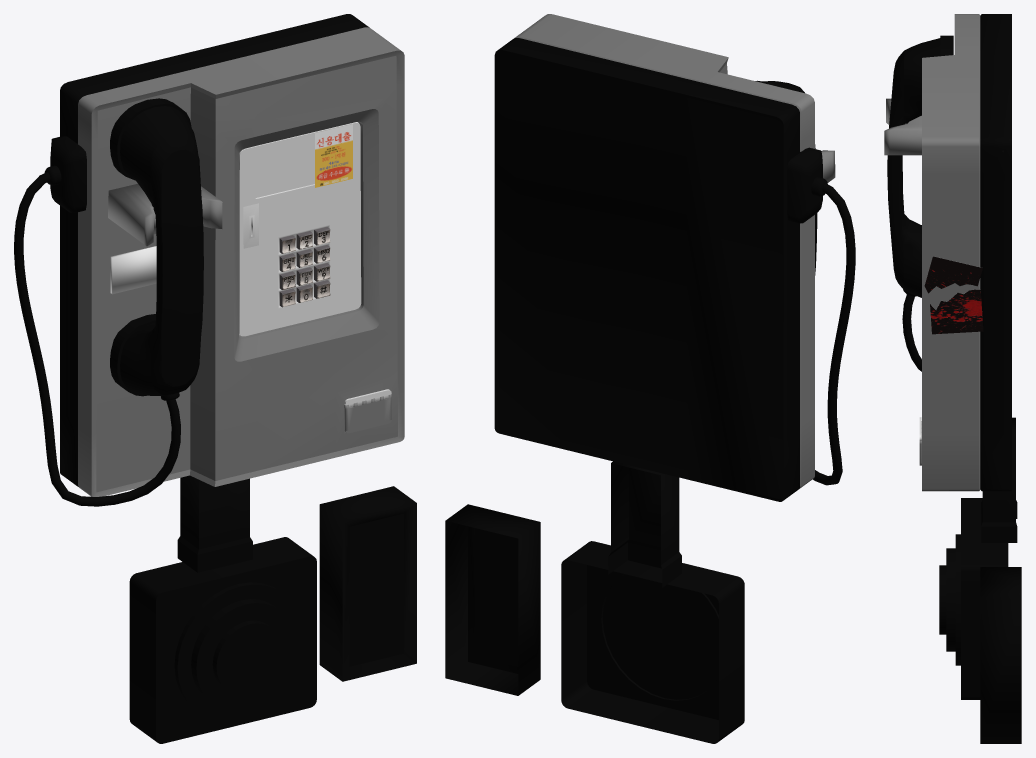
Rendered from phone.fbx.
The picture shows the model from 3 angles, left to right: view 1: azimuth 30°, elevation 25°; view 2: azimuth 150°, elevation 25°; view 3: azimuth 270°, elevation 25°; orthographic projection. The views are drawn at different scales.
Visible parts, largest first — view 1: module, phone, electric, cable, ads2, return coin; view 2: module, electric, cable; view 3: module, electric, phone, pictures of 10415, cable.
Boxes of the visible parts, x1,y1,x2,y2 form: module: [44, 14, 404, 743]; phone: [110, 98, 203, 400]; electric: [319, 486, 416, 681]; cable: [14, 172, 180, 506]; ads2: [315, 124, 352, 187]; return coin: [344, 394, 391, 433]; module: [494, 14, 835, 743]; electric: [445, 504, 540, 695]; cable: [813, 183, 855, 485]; module: [884, 14, 1017, 699]; electric: [980, 567, 1021, 743]; phone: [887, 35, 953, 297]; pictures of 10415: [924, 256, 983, 334]; cable: [902, 294, 921, 371].
Bounding box in the file's own units: 157 × 248 × 52.32.
